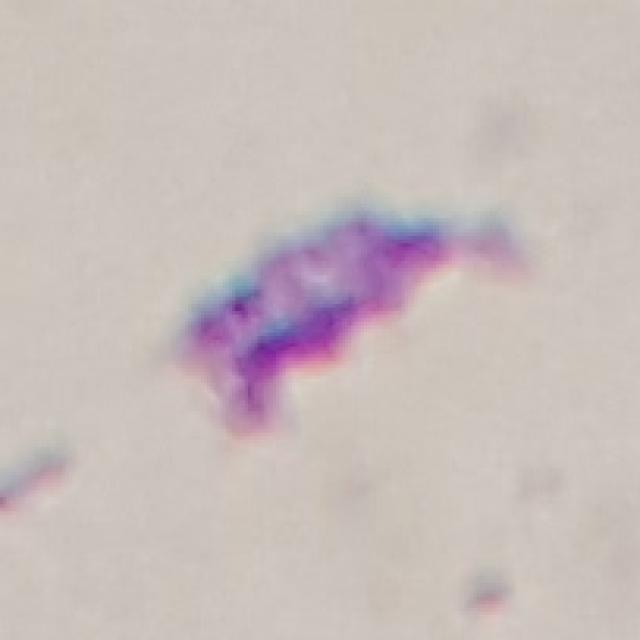non-sperm: (176, 207, 518, 433)
